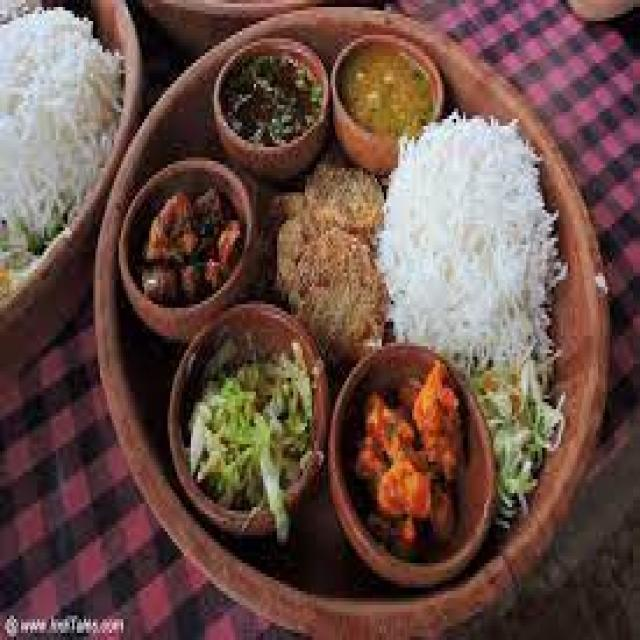dal: (338, 39, 438, 159)
papad: (269, 152, 388, 354)
rice: (382, 114, 544, 366)
veg-fry: (342, 344, 484, 575), (132, 163, 250, 322)
